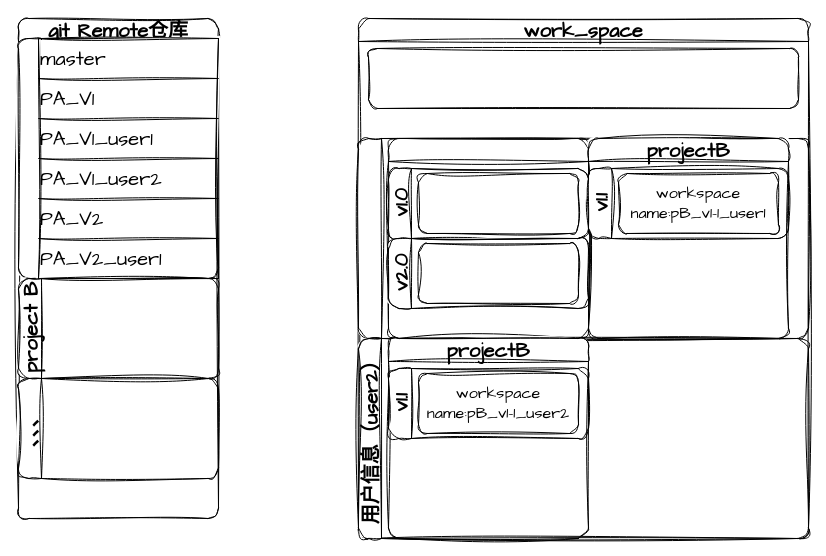
The diagram is 826 pixels wide and 556 high, and some of its shapes have lost their labels. The shapes that lost their labels are listed below. From the top down, each one's box as (x1, y1, x2, y2) in pixels, then its label:
(368, 48, 798, 108): 配置信息
(18, 38, 218, 278): project A
(418, 172, 578, 234): workspace name:pA_V1_user1
(388, 138, 588, 338): projectA
(358, 138, 808, 338): 用户信息（user1）
(418, 242, 578, 304): workspace name:PA_V2_user1
